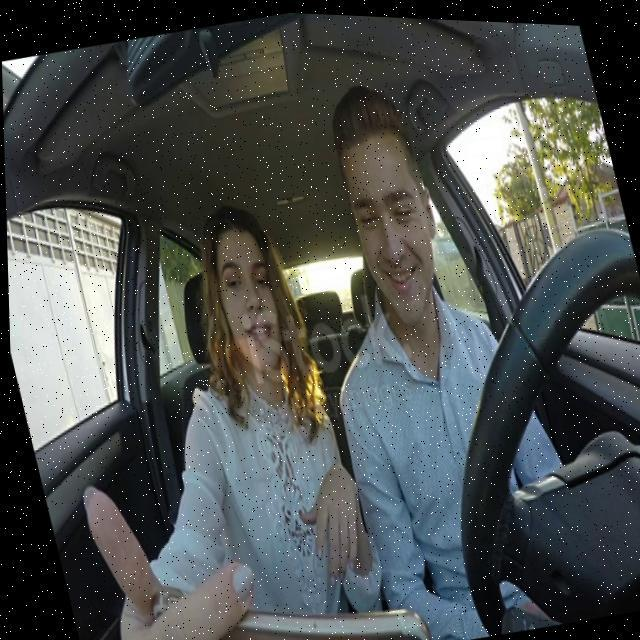PhoneCall: (139, 535, 429, 640)
